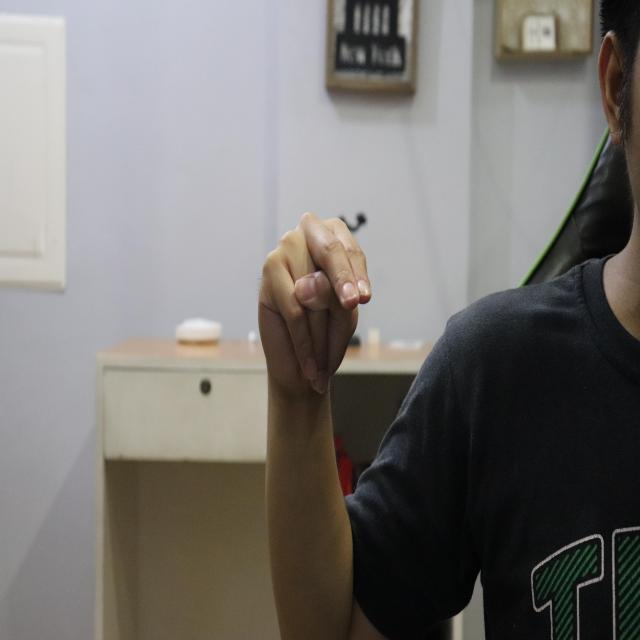N: (258, 210, 372, 397)
